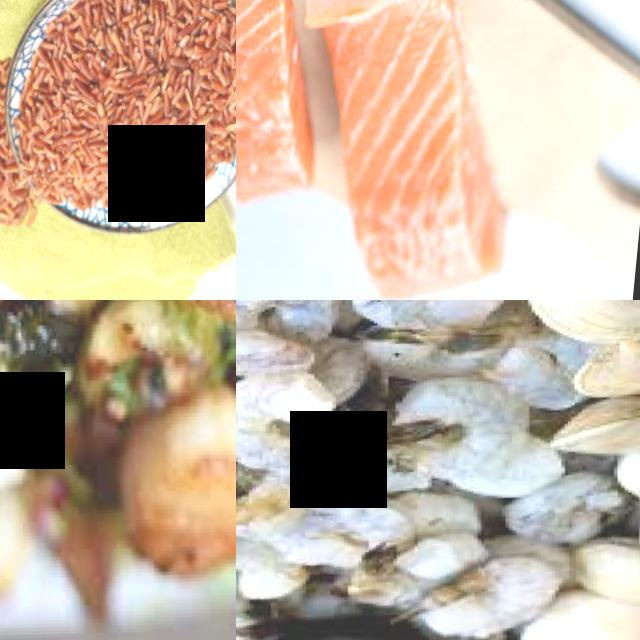red rice: (12, 0, 236, 219), (0, 53, 40, 235)
salmon: (312, 0, 541, 300)
sea scallops: (116, 378, 236, 583)
shrimp: (383, 363, 533, 479), (236, 354, 355, 480), (505, 451, 640, 543)
